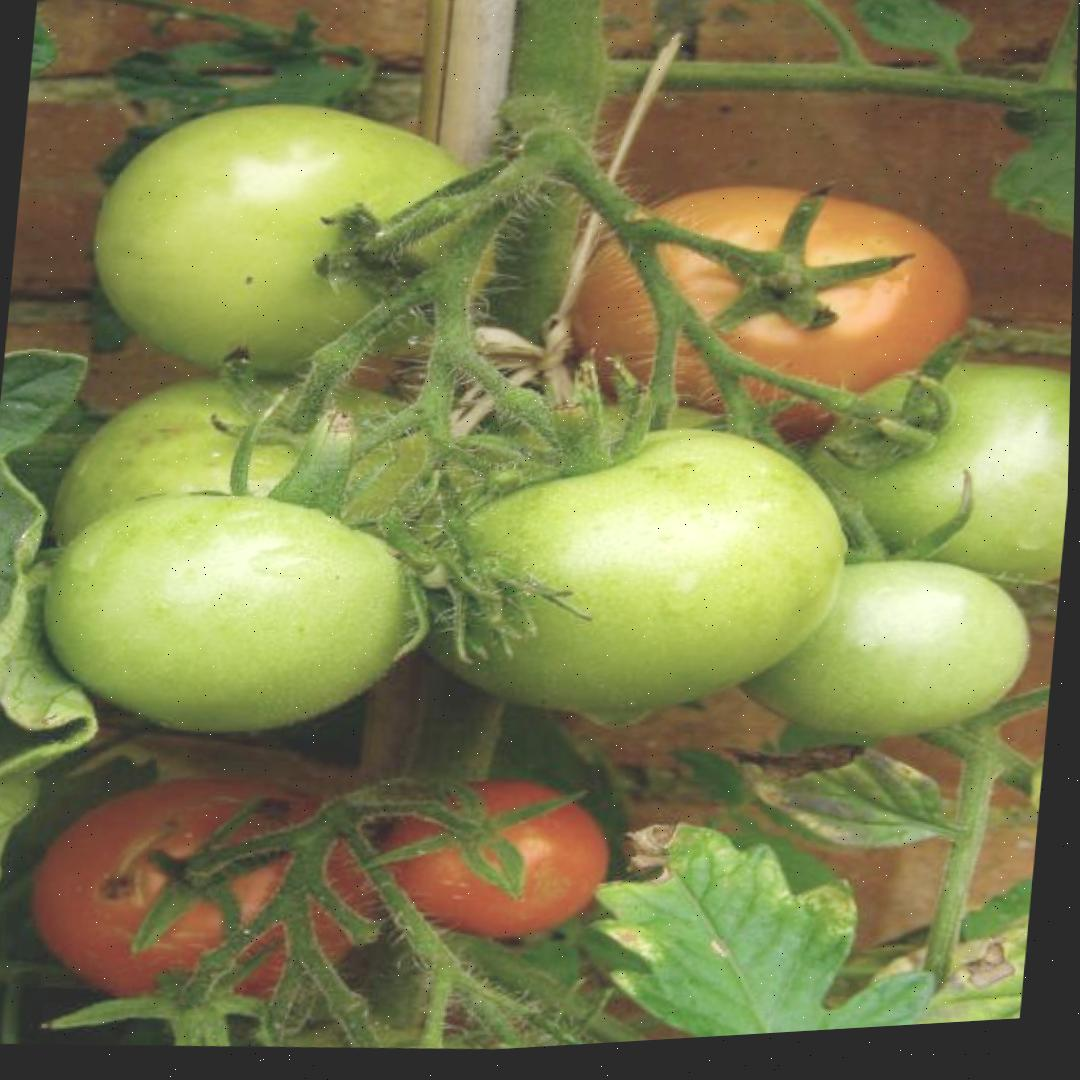matang: (542, 156, 991, 477), (24, 753, 394, 1036), (370, 763, 617, 958)
mentah: (393, 395, 862, 743), (75, 76, 496, 402), (24, 466, 444, 758), (784, 344, 1071, 616), (723, 539, 1040, 754)
